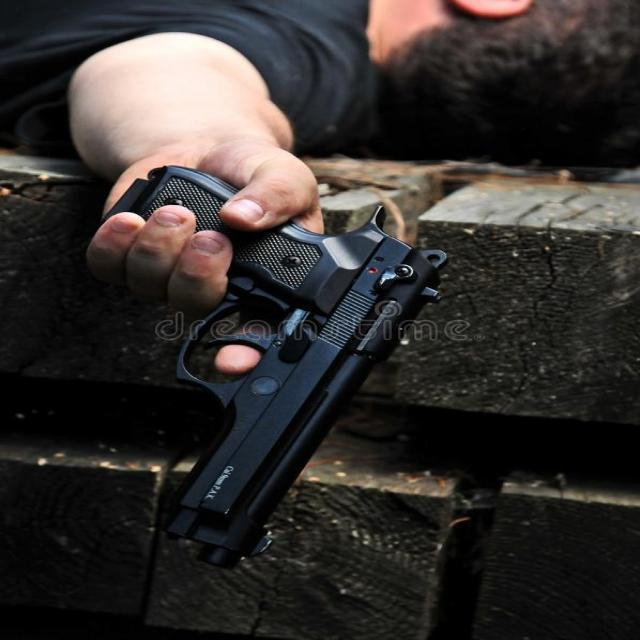Handgun: (82, 157, 466, 577)
